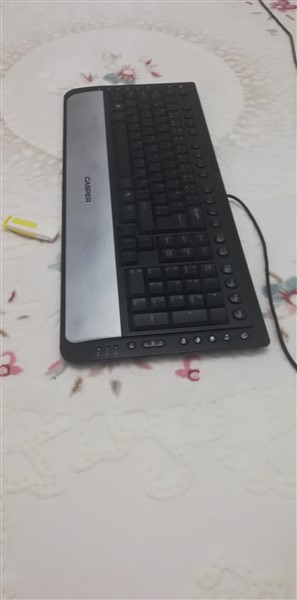flash disk: (4, 210, 63, 243)
klavye: (60, 83, 270, 354)
